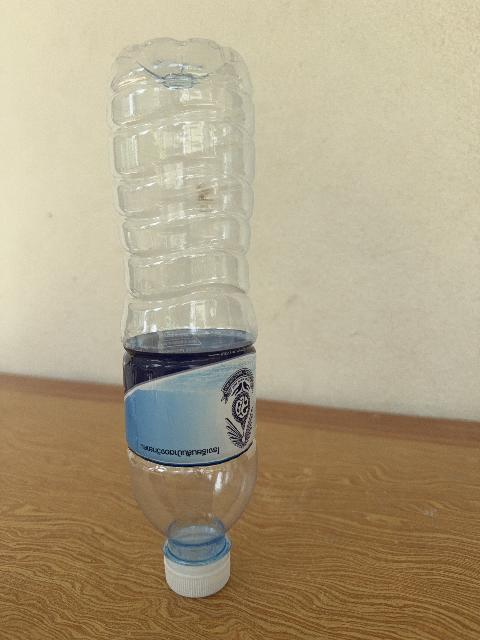bottle: (108, 39, 257, 596)
